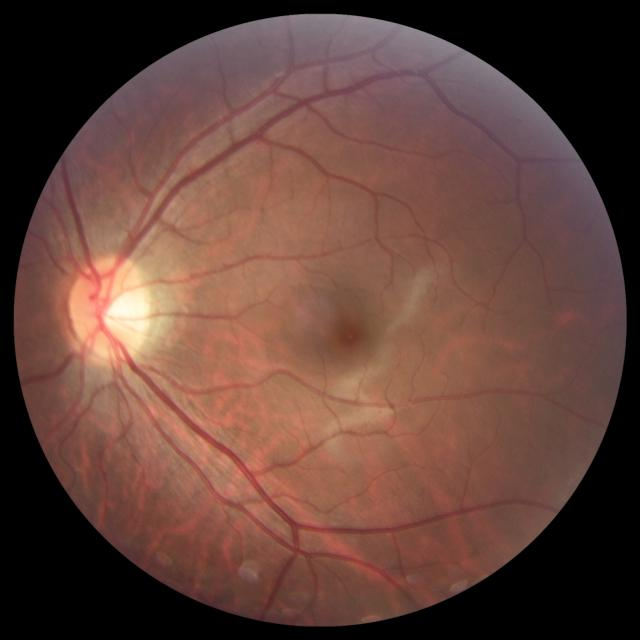OC: (99, 287, 141, 334)
OD: (67, 253, 154, 361)
